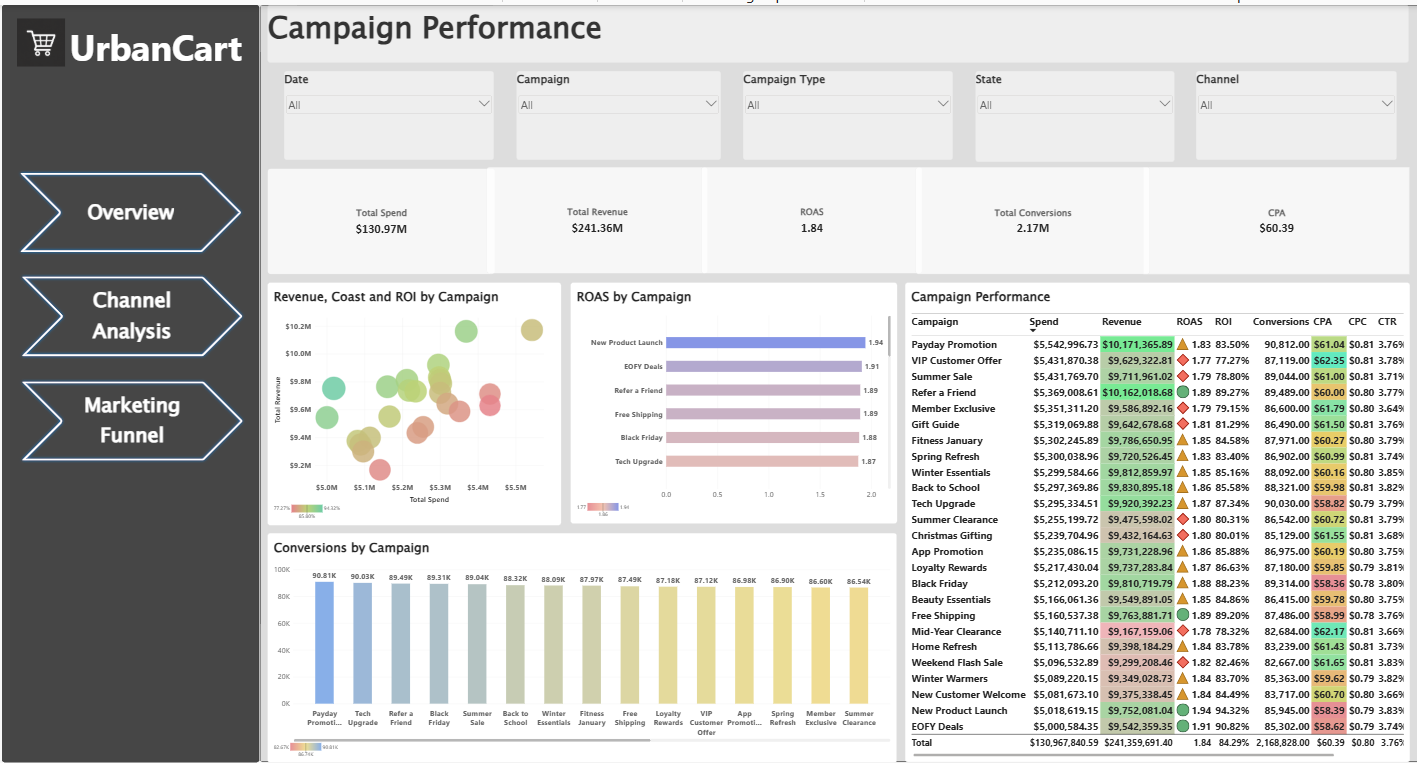

This screenshot's page, from the dashboard's own definition file:
{"tool":"powerbi","page":{"name":"Campaign Performance","canvas":[3840,2160],"ordinal":1},"visuals":[{"type":"shape","box":[10,0,695,2050],"z":0},{"type":"textbox","box":[178.5,28.4,490.7,158.2],"z":0,"group":"g1"},{"type":"slicer","title":"State","fields":{"Values":["Dim_Geography.State"]},"box":[2638.7,179.6,538,245.7],"z":0,"group":"g3"},{"type":"shape","box":[705,0,3135,2050],"z":1000},{"type":"image","box":[48.7,28.4,129.8,146],"z":1000,"group":"g1"},{"type":"slicer","title":"Campaign Type","fields":{"Values":["Dim_Campaign.Campaign_Type"]},"box":[2011,179.6,567.1,241],"z":1000,"group":"g3"},{"type":"shape","title":"Campaign Performance","box":[727.7,0,3085.6,155.9],"z":2000},{"type":"slicer","title":"Channel","fields":{"Values":["Dim_Channel.Standard Channel"]},"box":[3237.3,179.6,542.9,241],"z":2000,"group":"g3"},{"type":"slicer","title":"Campaign","fields":{"Values":["Dim_Campaign.Campaign_Name"]},"box":[1397.9,179.6,552.6,241],"z":3000,"group":"g3"},{"type":"clusteredBarChart","title":"ROAS by Campaign","fields":{"Category":["Dim_Campaign.Campaign_Name"],"Y":["Measure.ROAS"]},"box":[1545.2,751.3,883.6,652.1],"z":3000},{"type":"slicer","title":"Date","fields":{"Values":["Dim_Date.Year-Month"]},"box":[770.2,179.6,567.1,241],"z":4000,"group":"g3"},{"type":"cardVisual","title":"Total Impressions","fields":{"Data":["Measure.Total Spend"]},"box":[727.7,443.8,615.1,286.7],"z":4000,"group":"g2"},{"type":"tableEx","title":"Campaign Performance","fields":{"Values":["Dim_Campaign.Campaign_Name","Measure.Total Spend","Measure.Total Revenue","Measure.ROAS","Measure.ROI","Measure.Total Conversions","Measure.CPA","Measure.CPC","Measure.CTR","Measure.New Customers"]},"box":[2447.7,751.3,1365.6,1299.4],"z":4000},{"type":"cardVisual","fields":{"Data":["Measure.Total Revenue"]},"box":[1321.1,441.2,598.1,288.2],"z":5000,"group":"g2"},{"type":"actionButton","title":"Overview","box":[50,445,615,230],"z":5000},{"type":"cardVisual","fields":{"Data":["Measure.ROAS"]},"box":[1900.1,441.2,598.1,288.2],"z":6000,"group":"g2"},{"type":"actionButton","title":"Overview","box":[52,1011.2,615,230],"z":6000},{"type":"cardVisual","fields":{"Data":["Measure.CPA"]},"box":[3094.1,439.4,719.2,290],"z":7000,"group":"g2"},{"type":"actionButton","title":"Overview","box":[52,727.7,614.3,231.5],"z":7000},{"type":"scatterChart","title":"Revenue, Coast and ROI by Campaign","fields":{"Category":["Dim_Campaign.Campaign_Name"],"Size":["Measure.ROI"],"X":["Measure.Total Spend"],"Y":["Measure.Total Revenue"]},"box":[727.7,751.3,793.8,656.8],"z":8000},{"type":"clusteredColumnChart","title":"Conversions by Campaign","fields":{"Category":["Dim_Campaign.Campaign_Name"],"Y":["Measure.Total Conversions"]},"box":[727.7,1427,1701.1,623.7],"z":9000},{"type":"group","id":"g1","title":"Group 3","box":[48.7,28.4,620.4,158.2],"z":10000},{"type":"group","id":"g2","title":"Group 1","box":[727.7,439.4,3085.6,293],"z":11000},{"type":"group","id":"g3","title":"Group 2","box":[770.2,179.6,3010,245.7],"z":12000},{"type":"cardVisual","fields":{"Data":["Measure.Total Conversions"]},"box":[2479.1,439.4,634.2,290],"z":14003,"group":"g2"}]}

Visuals, with their boxes on the page's 3840x2160 design canvas (x1, y1, x2, y2). These are canvas units, not pixel positions in the 1417x763 screenshot, which may show the page scaled, cropped or inside an application window:
shape: (10,0,705,2050)
textbox: (178,28,669,187)
"State" slicer: (2639,180,3177,425)
shape: (705,0,3840,2050)
image: (49,28,178,174)
"Campaign Type" slicer: (2011,180,2578,421)
"Campaign Performance" shape: (728,0,3813,156)
"Channel" slicer: (3237,180,3780,421)
"Campaign" slicer: (1398,180,1950,421)
"ROAS by Campaign" clusteredBarChart: (1545,751,2429,1403)
"Date" slicer: (770,180,1337,421)
"Total Impressions" cardVisual: (728,444,1343,730)
"Campaign Performance" tableEx: (2448,751,3813,2051)
cardVisual - Measure.Total Revenue: (1321,441,1919,729)
"Overview" actionButton: (50,445,665,675)
cardVisual - Measure.ROAS: (1900,441,2498,729)
"Overview" actionButton: (52,1011,667,1241)
cardVisual - Measure.CPA: (3094,439,3813,729)
"Overview" actionButton: (52,728,666,959)
"Revenue, Coast and ROI by Campaign" scatterChart: (728,751,1522,1408)
"Conversions by Campaign" clusteredColumnChart: (728,1427,2429,2051)
"Group 3" group: (49,28,669,187)
"Group 1" group: (728,439,3813,732)
"Group 2" group: (770,180,3780,425)
cardVisual - Measure.Total Conversions: (2479,439,3113,729)
